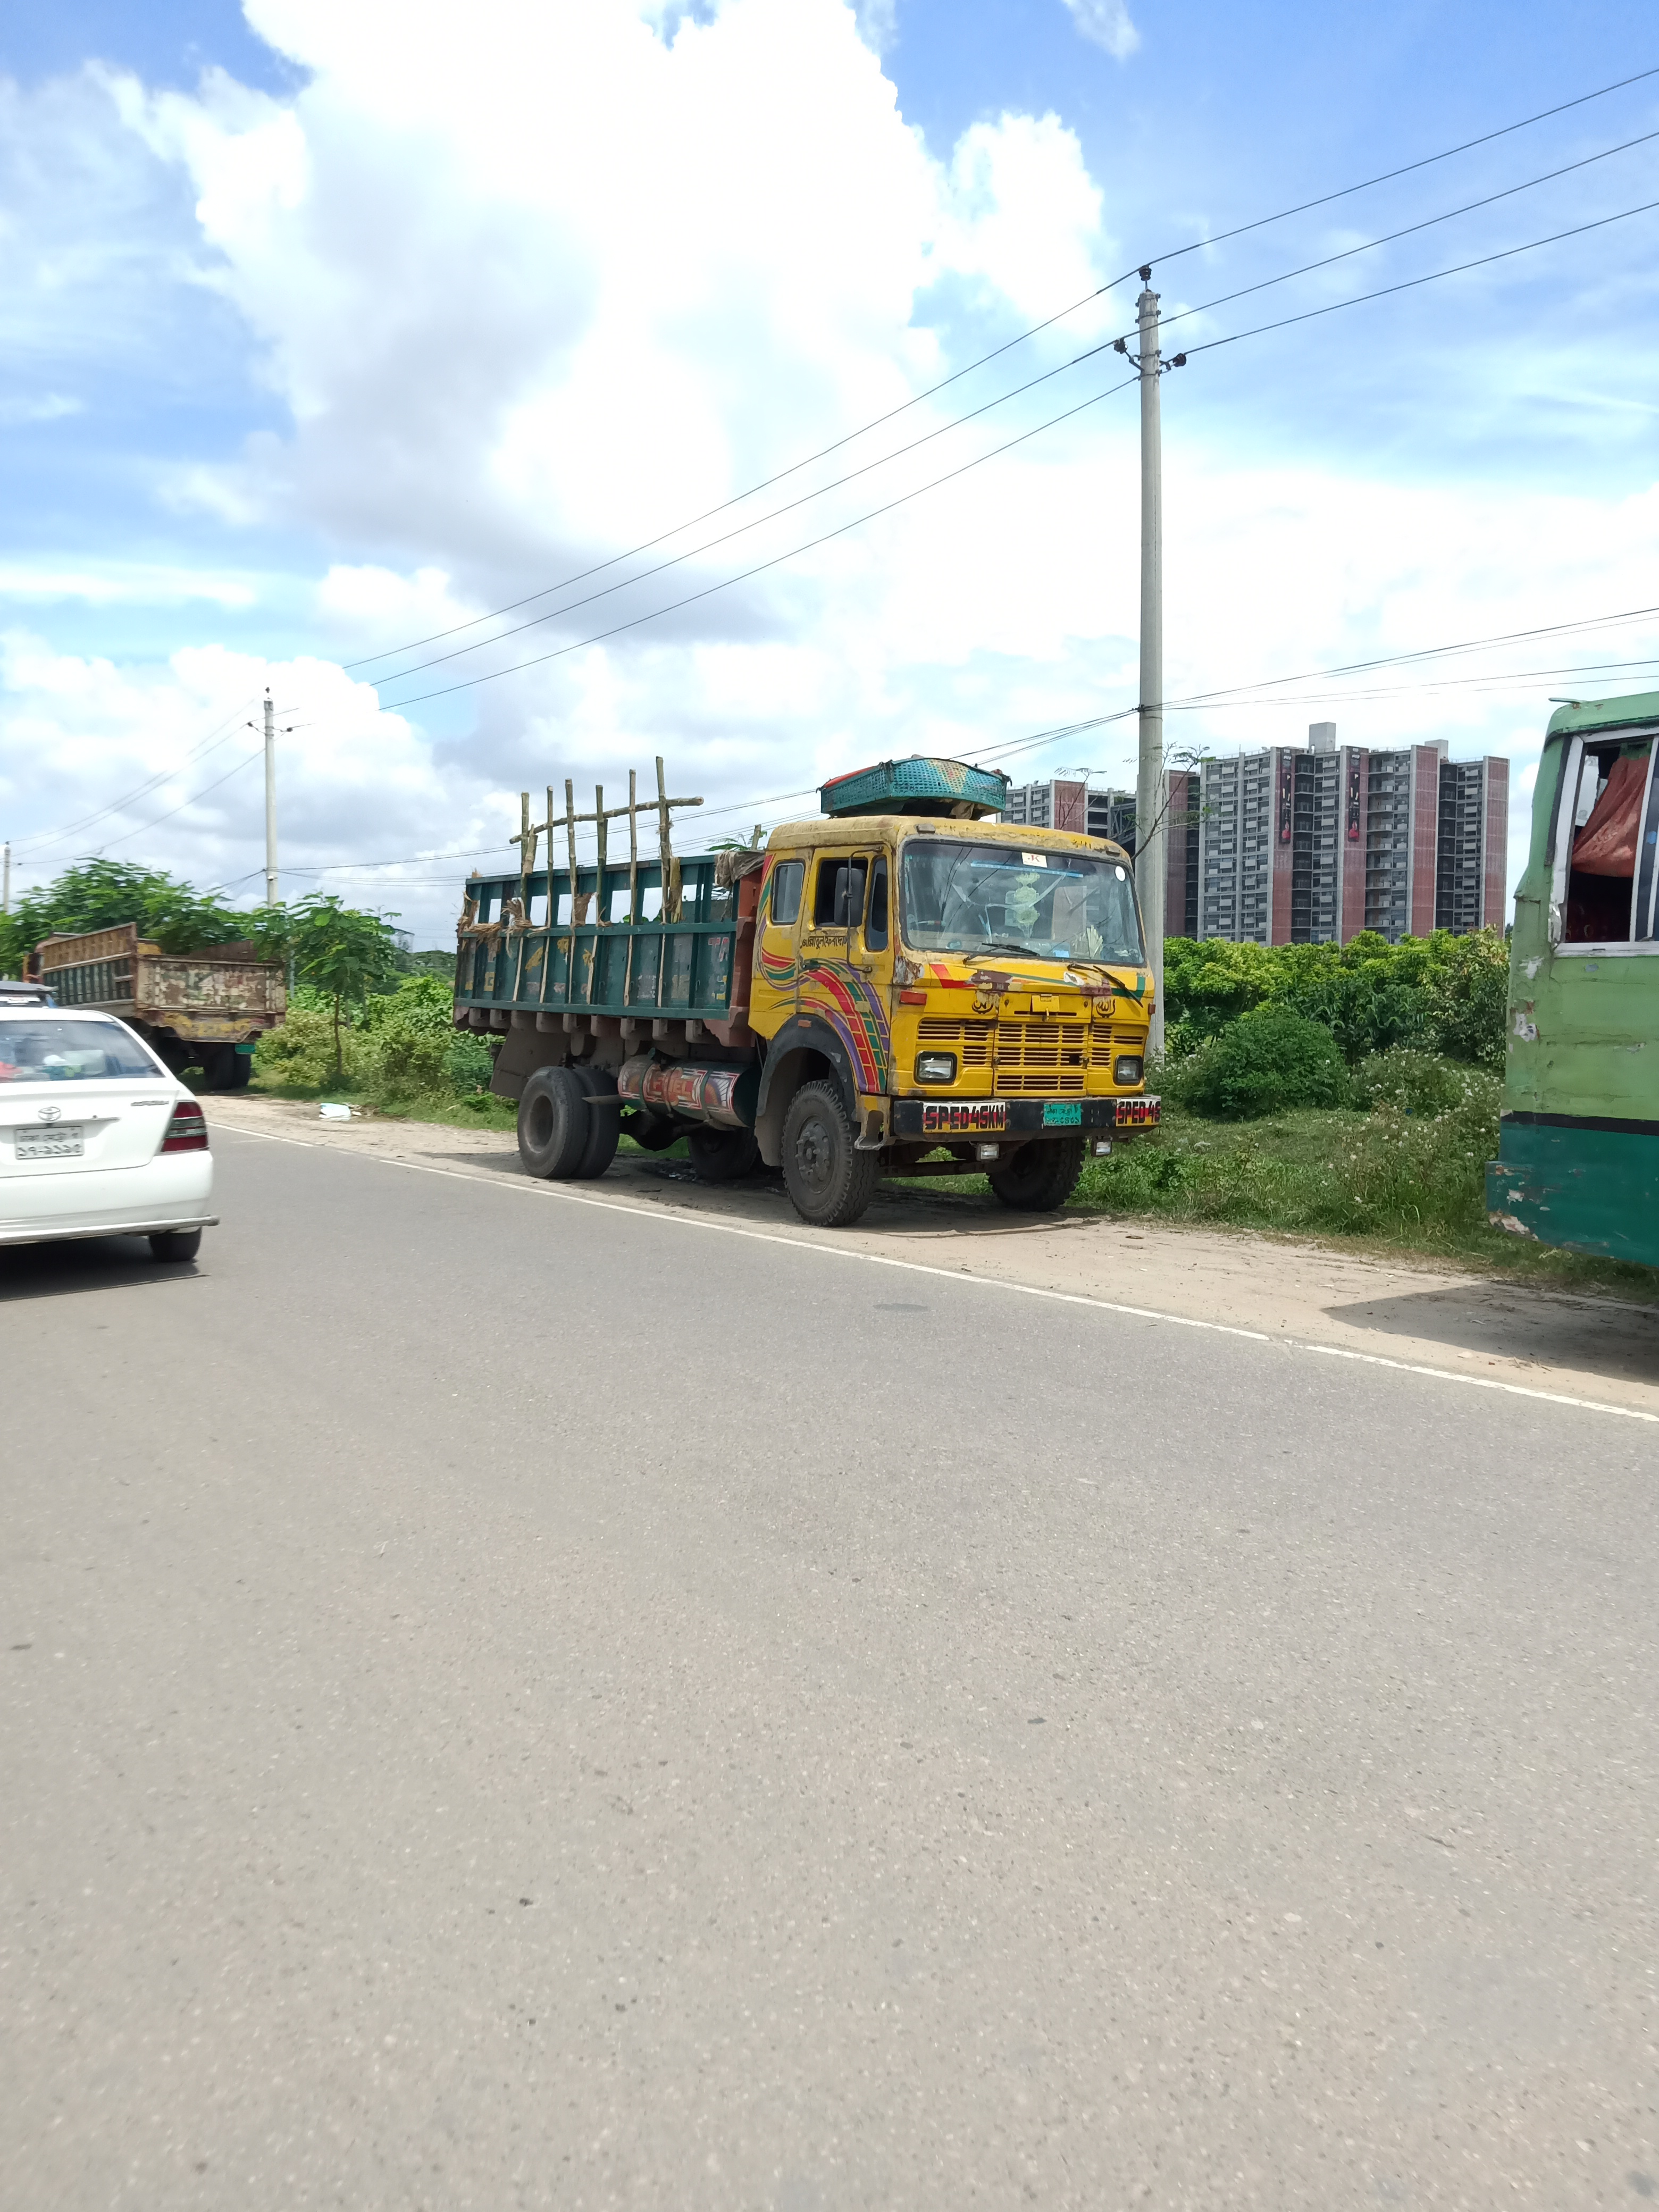bus: (1502, 690, 1659, 1280)
car: (0, 1001, 227, 1275)
truck: (453, 756, 1169, 1221), (24, 923, 279, 1090)
